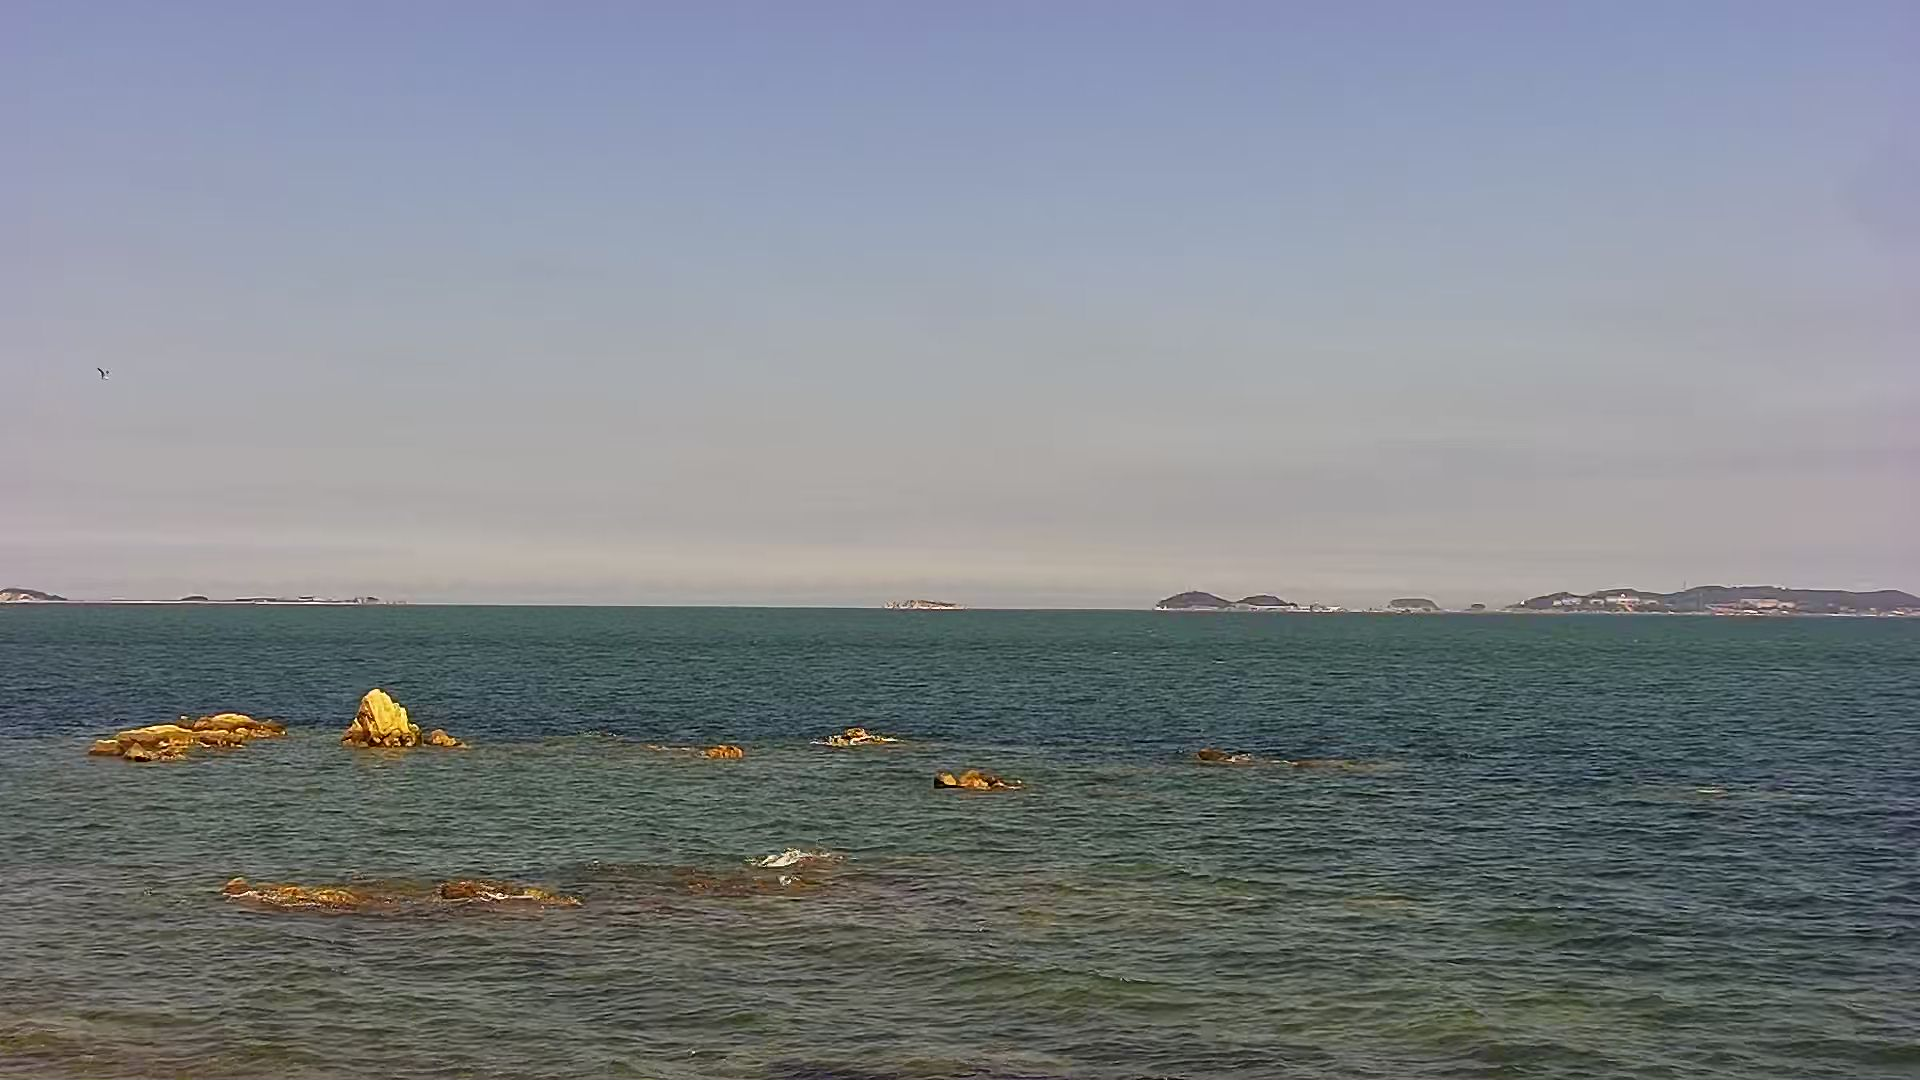rock: (1491, 580, 1920, 626), (71, 698, 310, 771), (200, 856, 396, 927), (327, 674, 480, 764), (667, 840, 862, 895), (423, 865, 589, 919), (1189, 731, 1294, 785), (804, 705, 902, 760), (229, 583, 419, 607), (920, 764, 1035, 799), (676, 724, 761, 767), (1367, 585, 1462, 618), (1232, 587, 1317, 622), (3, 578, 83, 611), (873, 589, 965, 613), (1145, 589, 1237, 613), (1464, 591, 1498, 621), (174, 587, 215, 607)
